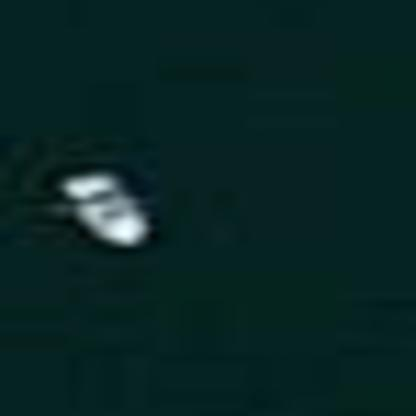ship: (52, 158, 165, 258)
